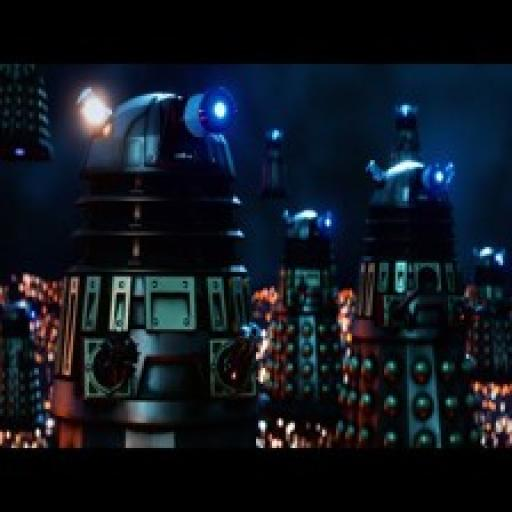dalek: (52, 86, 261, 450), (336, 156, 482, 453), (262, 208, 346, 419), (468, 231, 512, 382), (0, 62, 58, 168), (3, 293, 46, 435), (260, 124, 290, 197), (389, 102, 422, 168)
